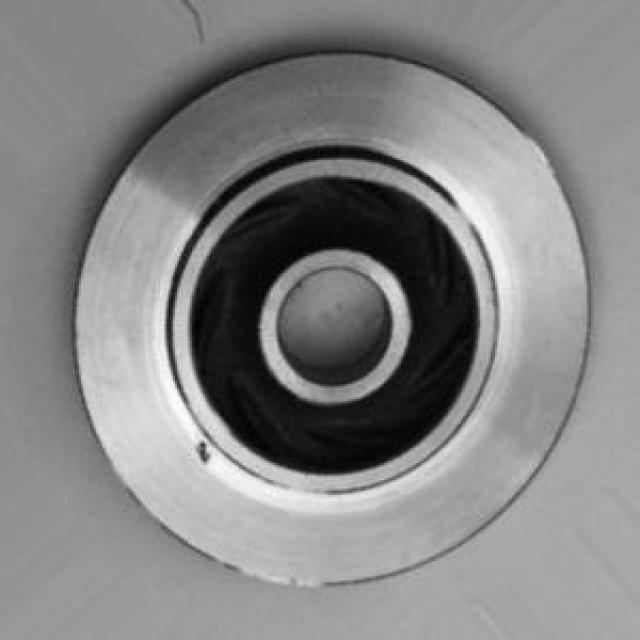Defect: (191, 440, 218, 470)
